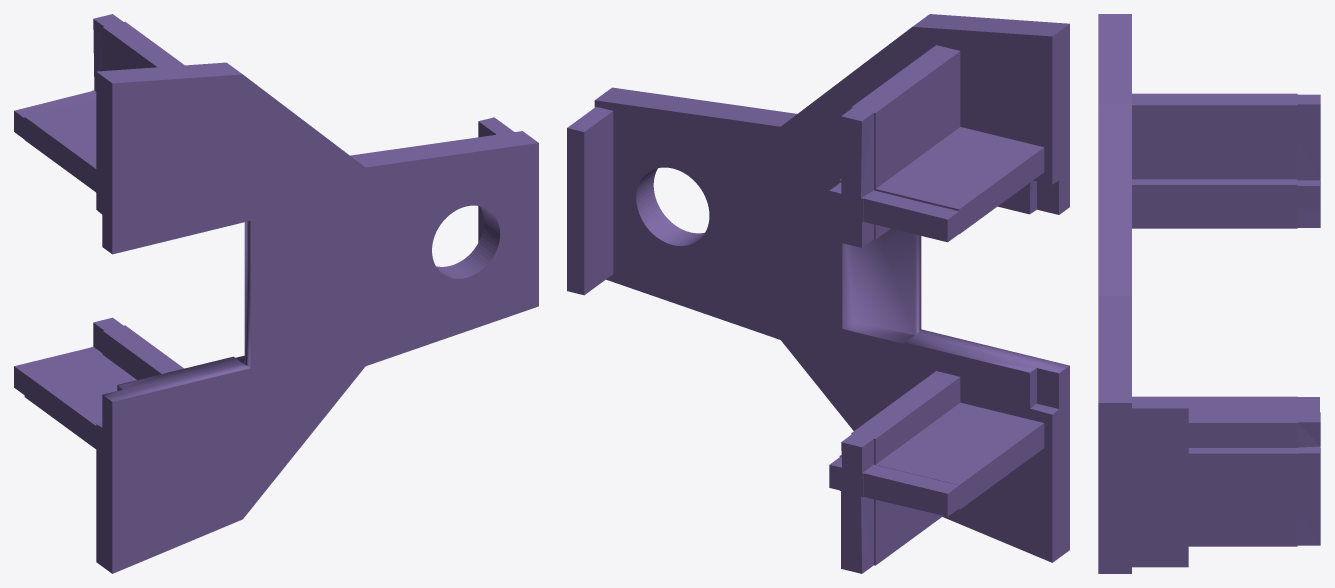
Rendered from Front_Upper_Plate.obj.
3 renders of one model, left to right at view 1: azimuth 30°, elevation 25°; view 2: azimuth 150°, elevation 25°; view 3: azimuth 270°, elevation 25°, orthographic. The views are drawn at different scales.
Visible parts, largest first — view 1: Cube.015_Cube.029; view 2: Cube.015_Cube.029; view 3: Cube.015_Cube.029.
Part boxes in pixels (left/top/right/bottom): Cube.015_Cube.029: left=14, top=14, right=538, bottom=573; Cube.015_Cube.029: left=567, top=14, right=1069, bottom=573; Cube.015_Cube.029: left=1098, top=14, right=1320, bottom=573.
Size of the model in its own units: 38.21 by 42 by 16.51.
